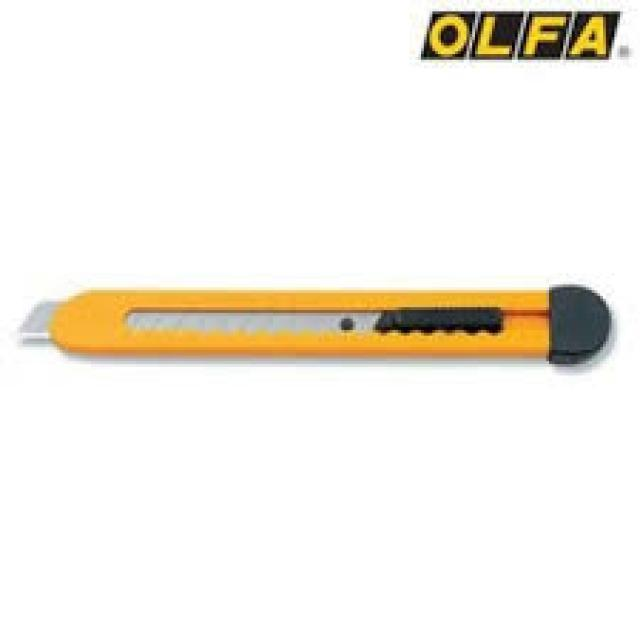cutter: (16, 273, 634, 376)
